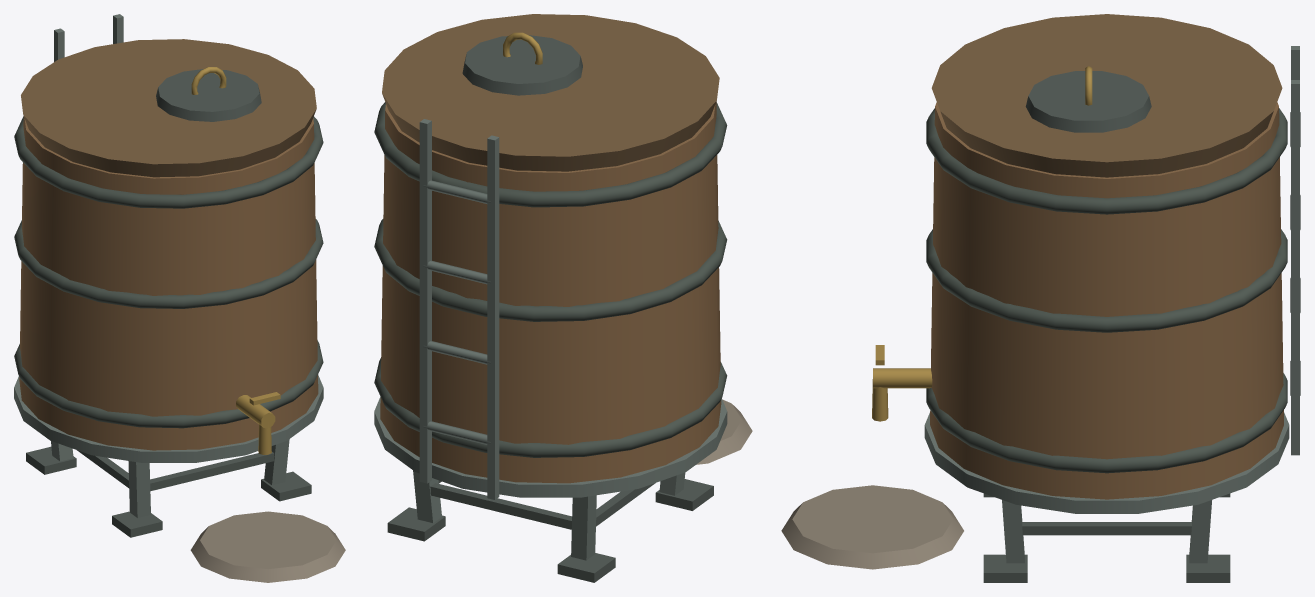
The model's file is farm-water-butt.m1.glb.
3 views of the same model, side by side, from view 1: azimuth 30°, elevation 25°; view 2: azimuth 150°, elevation 25°; view 3: azimuth 270°, elevation 25° (orthographic). The views are drawn at different scales.
Visible parts, largest first — view 1: waterButtStaves, waterButtHardware; view 2: waterButtHardware, waterButtStaves; view 3: waterButtStaves, waterButtHardware.
Part boxes in pixels (box(x1,y1,x2,y2)): waterButtStaves: box(19, 116, 318, 450); waterButtHardware: box(14, 14, 345, 582); waterButtHardware: box(374, 14, 752, 582); waterButtStaves: box(380, 101, 721, 483); waterButtStaves: box(930, 102, 1283, 499); waterButtHardware: box(781, 14, 1300, 582).
Bounding box in the file's own units: 1.6 × 2.33 × 2.27.
